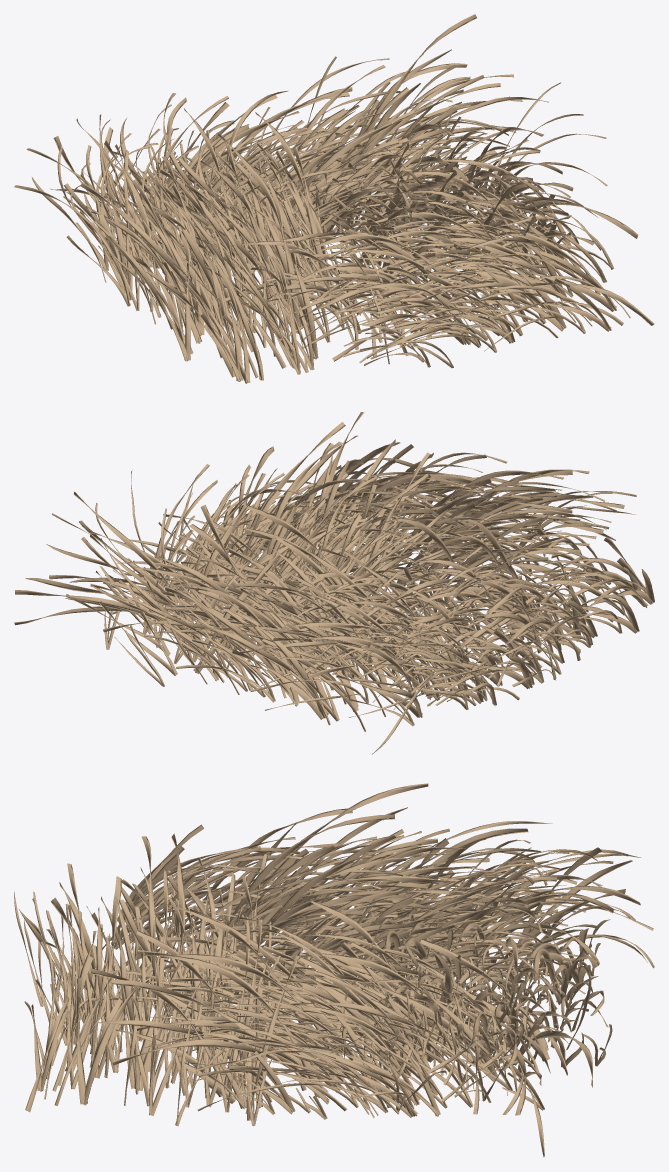
Rendered from Grass6.fbx.
3 renders of one model, top to bottom at view 1: azimuth 30°, elevation 25°; view 2: azimuth 150°, elevation 25°; view 3: azimuth 270°, elevation 25°, orthographic. The views are drawn at different scales.
Parts seen in each view (by area): view 1: grassDryBlowing16Main; view 2: grassDryBlowing16Main; view 3: grassDryBlowing16Main.
Part boxes in pixels (x1,y1,x2,y2): grassDryBlowing16Main: (14, 14, 654, 383); grassDryBlowing16Main: (14, 412, 654, 754); grassDryBlowing16Main: (14, 783, 654, 1157).
Bounding box in the file's own units: 33.16 × 8.97 × 33.22.
